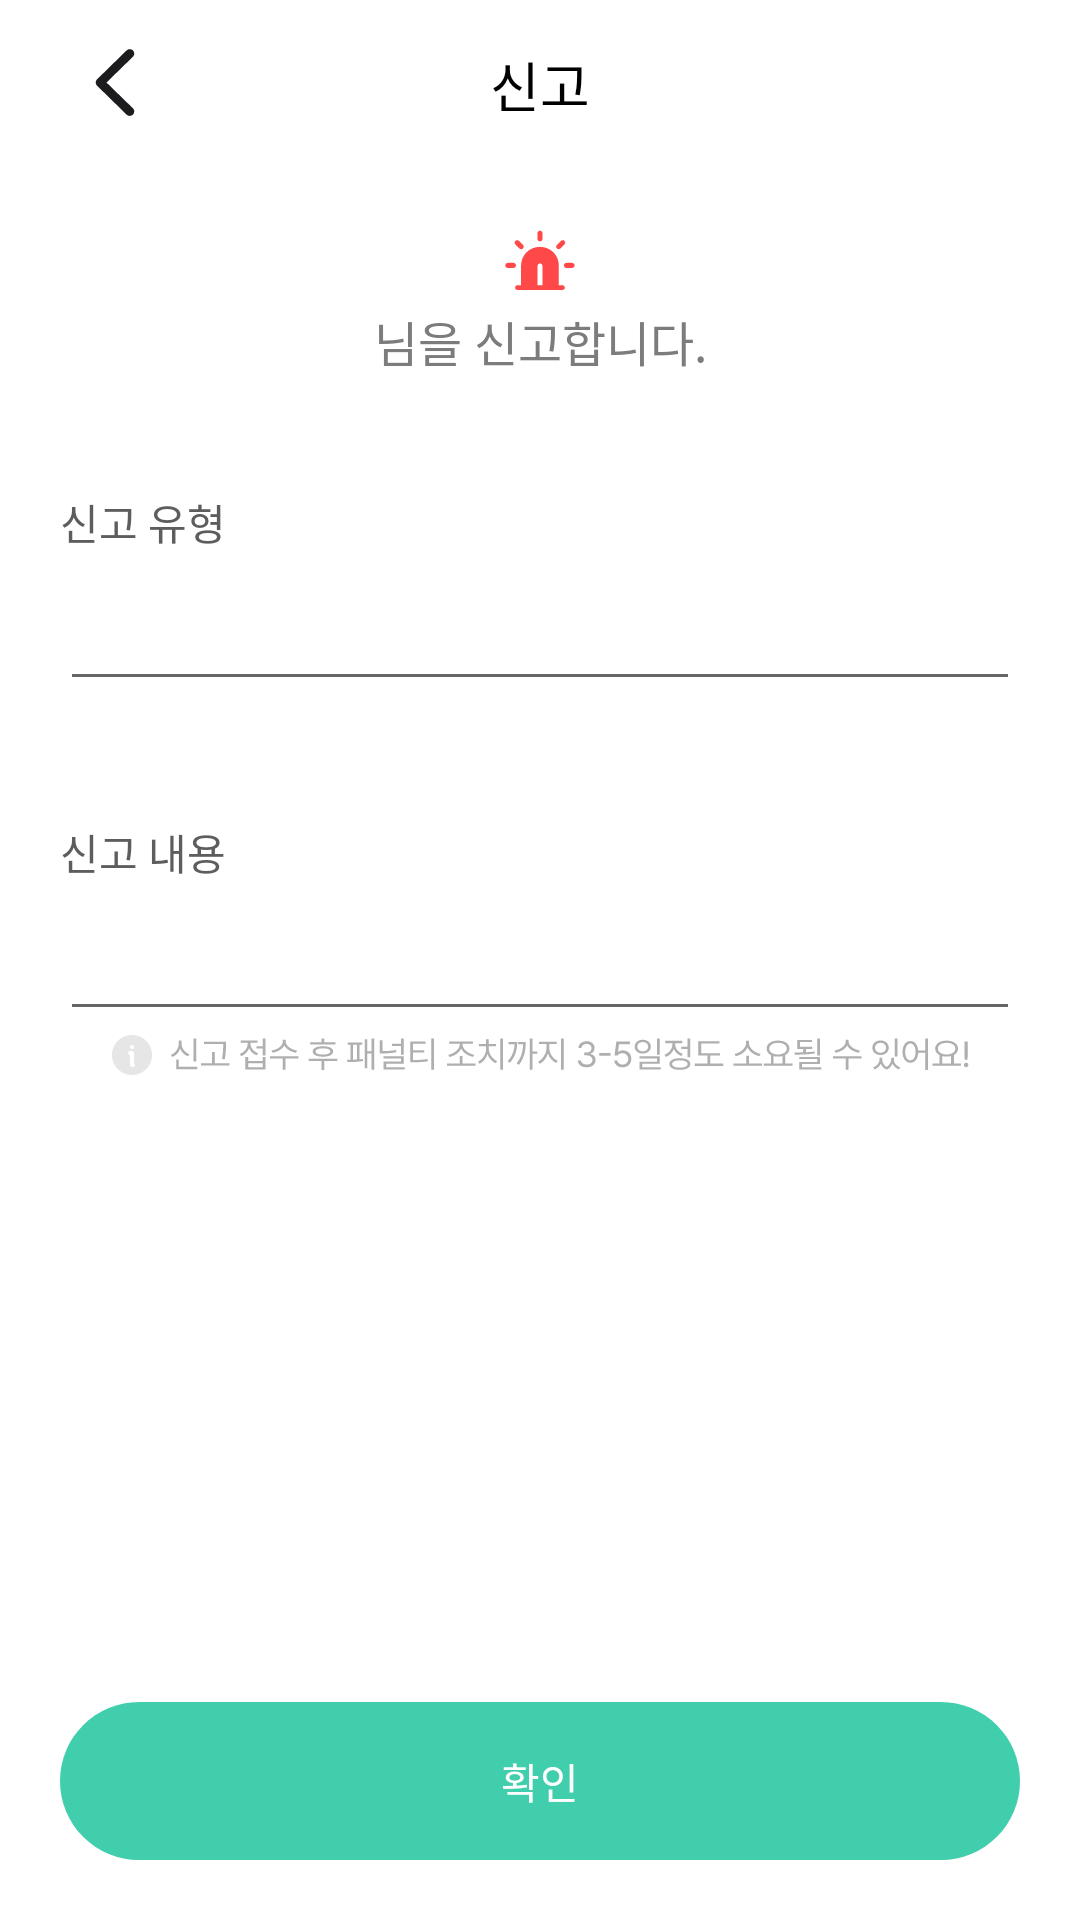

Point at icon controls on the screen. Image size 1080px x 1920px, points as point (x, y).
backward: point (115, 82)
